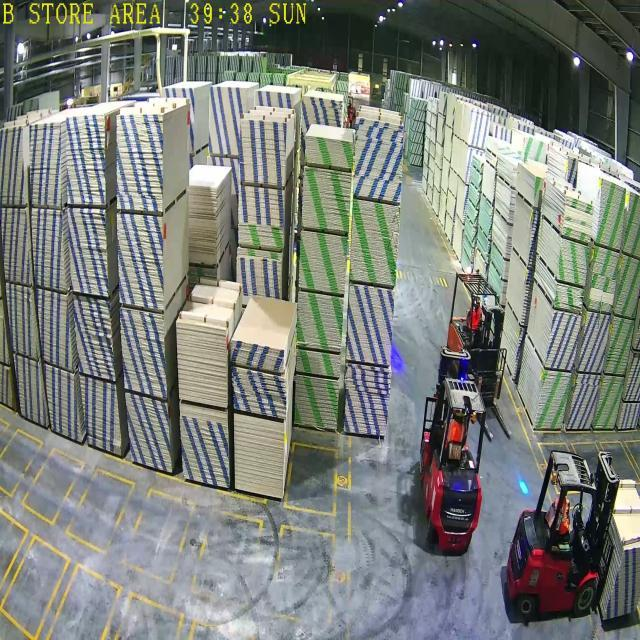material_stack: (350, 198, 400, 286), (354, 116, 403, 204), (233, 413, 283, 497), (345, 282, 393, 364), (344, 364, 391, 438), (239, 119, 286, 187), (302, 168, 351, 233), (299, 232, 346, 295), (297, 293, 343, 351), (232, 366, 284, 417), (534, 367, 572, 432), (294, 374, 338, 430), (545, 308, 581, 369), (595, 179, 626, 248), (587, 248, 619, 314), (578, 312, 610, 371), (568, 372, 601, 429), (238, 186, 284, 226), (605, 317, 635, 375), (239, 255, 280, 297), (305, 135, 353, 169), (595, 375, 625, 429), (229, 340, 284, 369), (615, 256, 640, 318), (558, 237, 589, 284), (563, 197, 594, 243), (297, 350, 340, 379), (238, 226, 283, 251), (623, 192, 640, 257), (554, 284, 584, 313)
